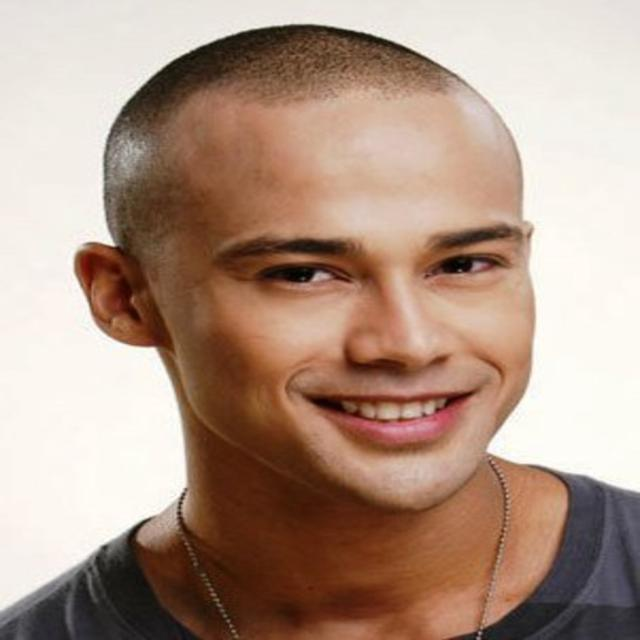no_helmet: (30, 9, 541, 255)
